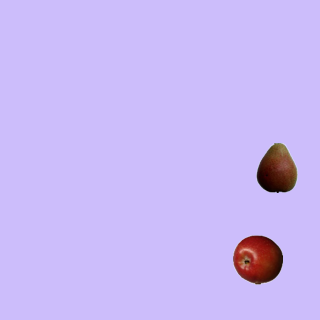Apple Braeburn: (232, 234, 282, 284)
Pear Forelle: (251, 142, 301, 192)
